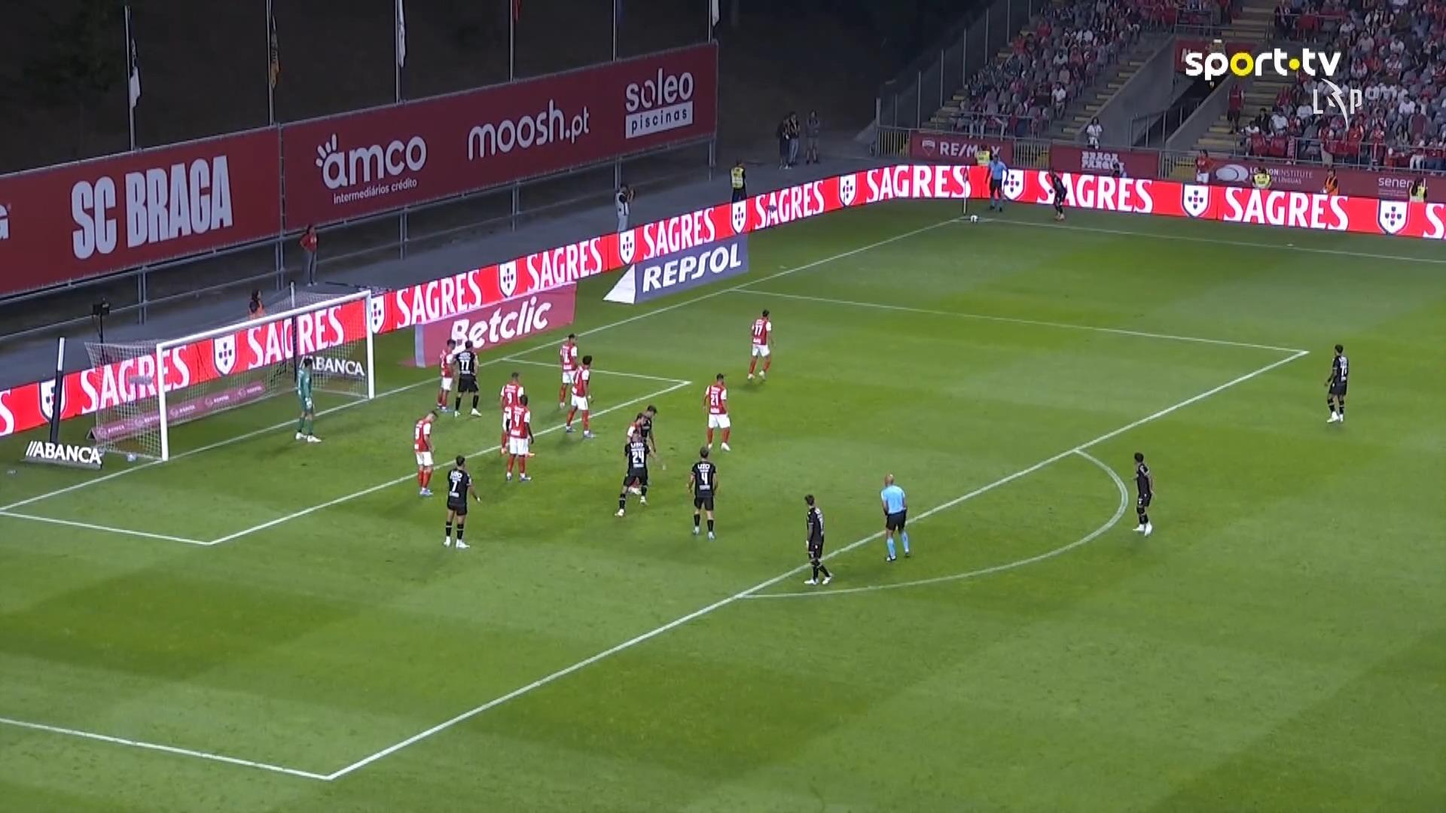ball: (1143, 521, 1152, 536), (969, 214, 978, 223)
goalkeeper: (294, 355, 322, 443)
player: (442, 455, 480, 548), (613, 430, 651, 516), (686, 443, 718, 539), (802, 492, 833, 585), (503, 394, 534, 481), (564, 354, 596, 438), (702, 373, 732, 452), (451, 339, 481, 417), (412, 410, 438, 496), (499, 370, 525, 455), (1323, 343, 1349, 422), (1131, 451, 1154, 536), (746, 309, 773, 380), (557, 332, 579, 410), (435, 337, 457, 411), (631, 403, 658, 457), (1046, 166, 1067, 221)
referee: (880, 472, 911, 561), (984, 149, 1008, 211)
